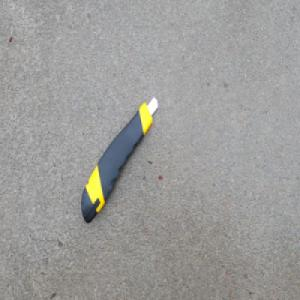Cutter: (79, 95, 158, 224)
